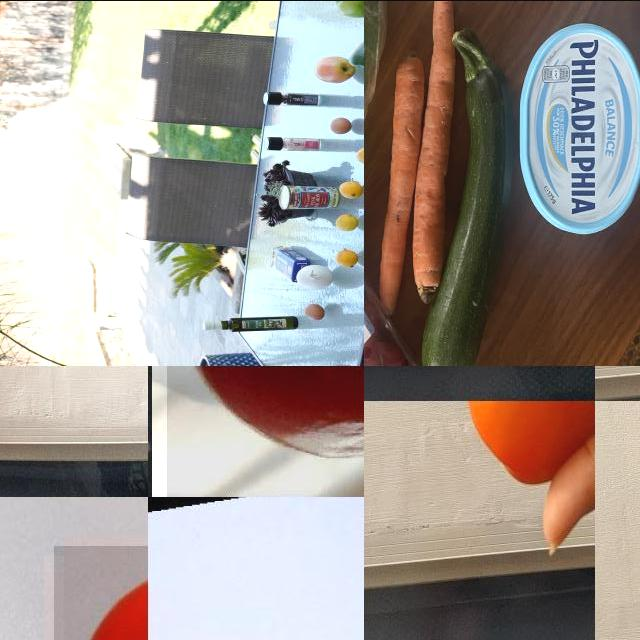bell_pepper: (263, 89, 323, 111), (262, 202, 315, 224), (349, 38, 365, 73)
carrot: (409, 1, 456, 309), (368, 53, 420, 313)
egg: (331, 114, 358, 134), (304, 301, 331, 321)
onion: (298, 264, 338, 294)
tomato: (55, 547, 149, 640), (365, 329, 406, 366)
zucchini: (420, 21, 510, 366)
